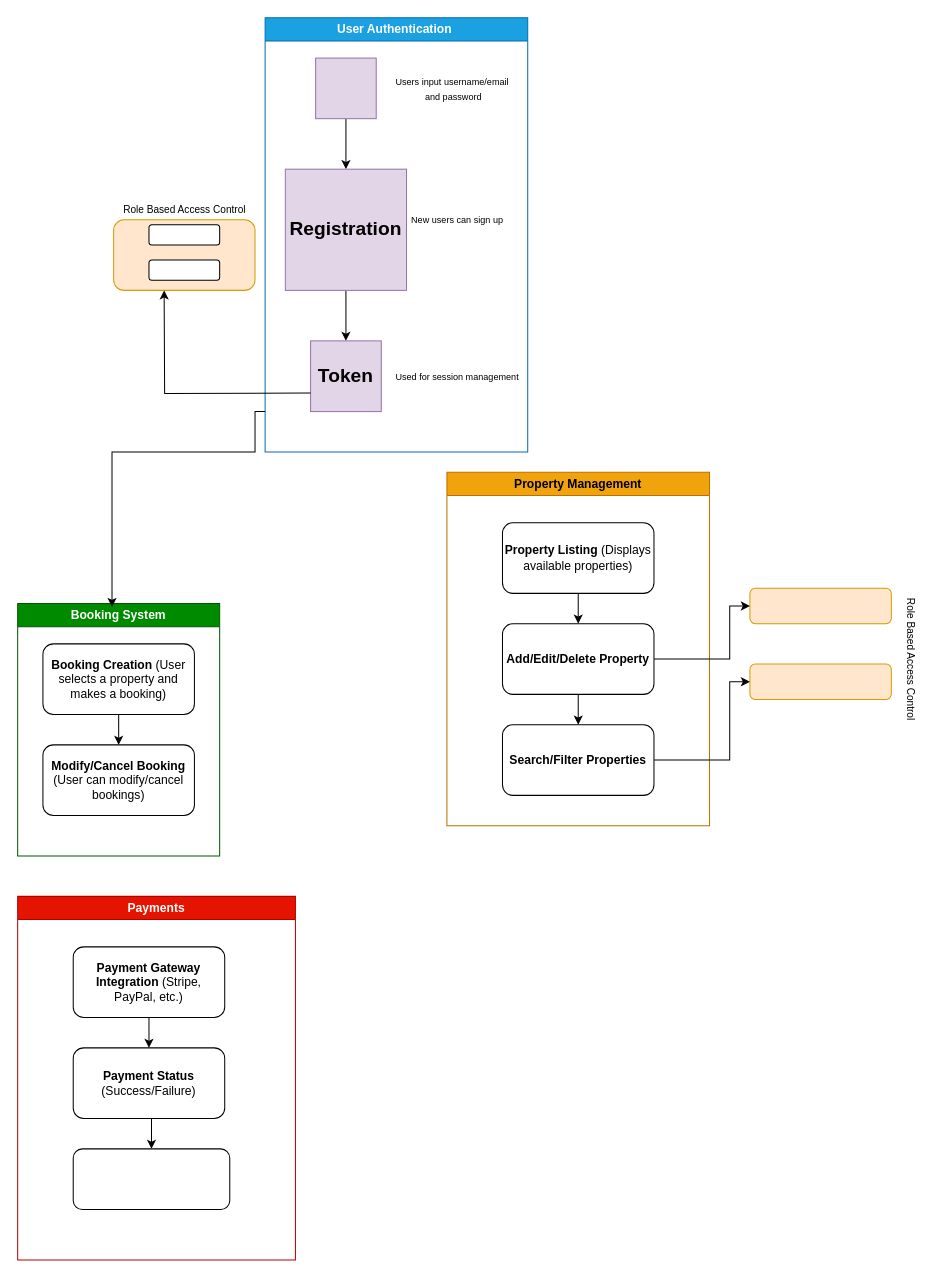
This 944x1278 diagram has some shape labels left out. Each missing label, with the centre of its shape:
"Admin" goes at point (184, 234).
"Guest" goes at point (820, 681).
"Host" goes at point (820, 605).
"Invoice Generation (Generate an invoice after payment" goes at point (151, 1178).
"login" goes at point (345, 88).
"User" goes at point (184, 269).
